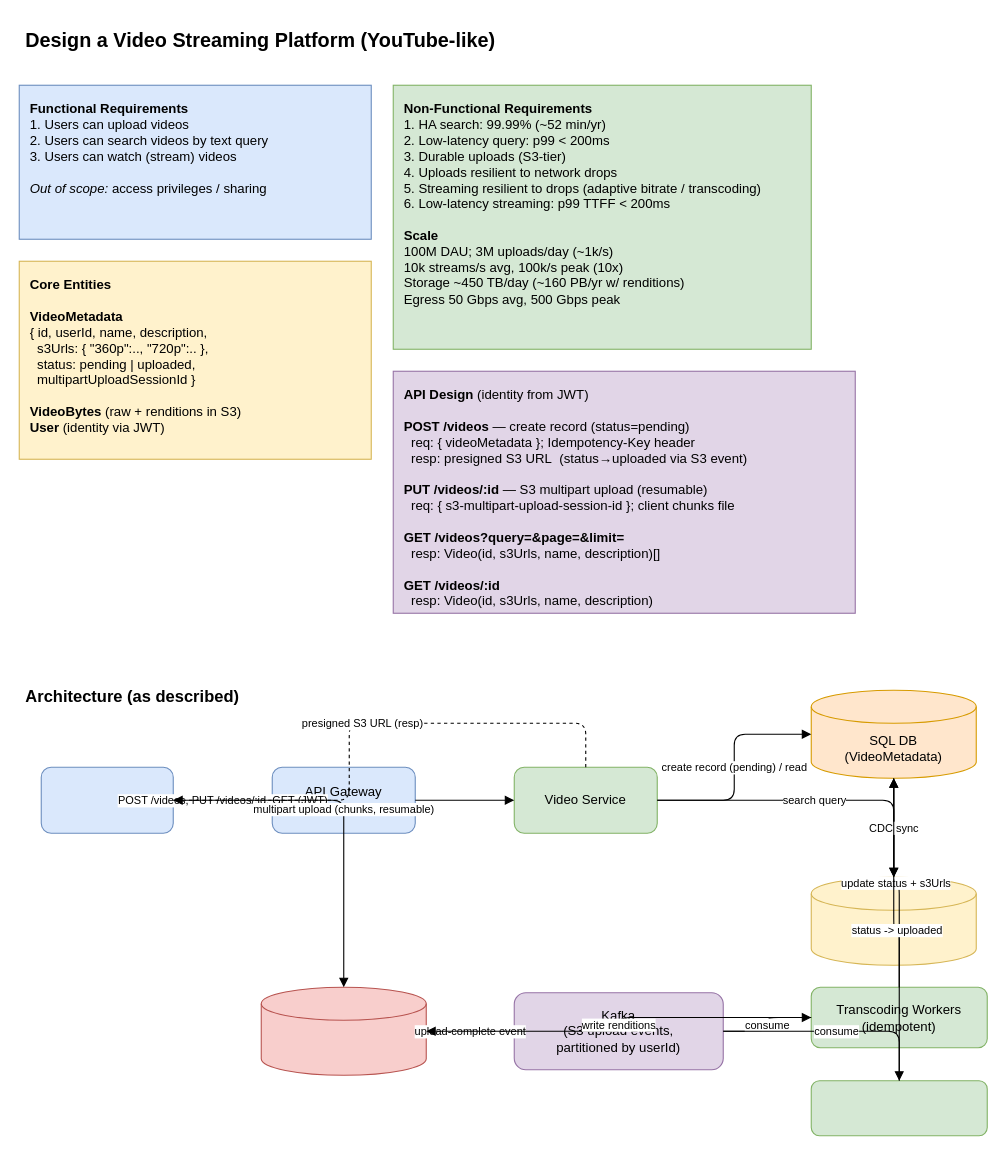
The diagram is 1007 pixels wide and 1155 high, and some of its shapes have lost their labels. Here are the shapes that lost their labels. From the top down, the centre of each, then its label:
At (106,799): "Client".
At (893,920): "ElasticSearch (search index)".
At (343,1030): "S3 (raw + renditions)".
At (898,1108): "DB-Update Workers".
